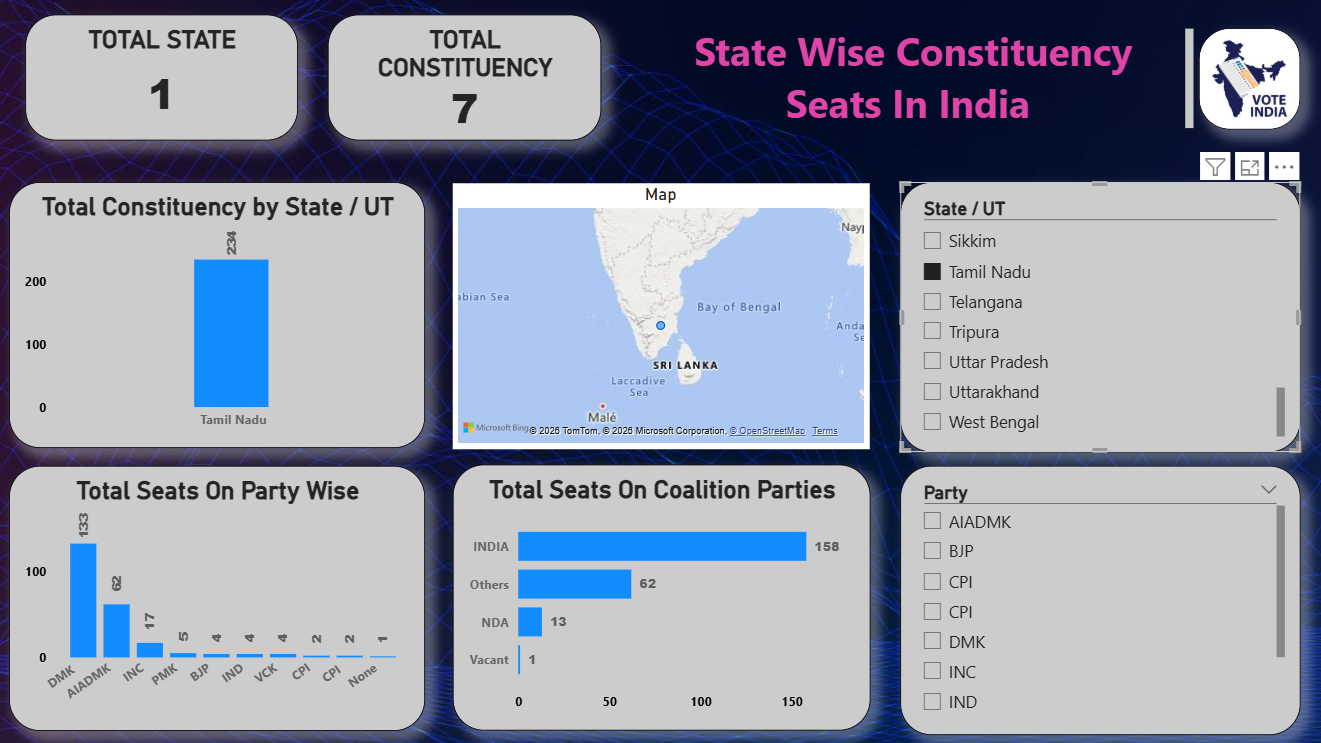

Layout of this report page (visuals, bound fields, positions):
{"tool":"powerbi","page":{"name":"Page 1","canvas":[1280,720],"ordinal":0},"visuals":[{"type":"card","title":"TOTAL STATE","fields":{"Values":["Count(Data.State / UT)"]},"box":[792.6,32.6,226.8,105],"z":0},{"type":"card","title":"TOTAL CONTITUENCY","fields":{"Values":["Count(Data.Total Constituency)"]},"box":[1042.4,32.6,228,103.8],"z":1000},{"type":"columnChart","title":"Total Constituency by State / UT","fields":{"Category":["Data.State / UT"],"Y":["Sum(Data.Total Constituency)"]},"box":[279.9,152.3,477.5,259.3],"z":2000},{"type":"map","fields":{"Category":["Data.State / UT"]},"box":[793.1,152.3,477.5,259.3],"z":3000},{"type":"columnChart","title":"TOTAL SEATS ON PARTY WISE","fields":{"Y":["Sum(Data.Total Constituency)"],"Category":["Data.Party"]},"box":[279.9,435,477.5,256.6],"z":4000},{"type":"clusteredBarChart","title":"TOTAL SEATS ON COALITION PARTIES","fields":{"Category":["Data.NDA / INDI"],"Y":["Sum(Data.Total Constituency)"]},"box":[793.1,435,477.5,256.6],"z":5000},{"type":"slicer","fields":{"Values":["Data.State / UT"]},"box":[34.3,152.3,223.7,259.3],"z":6000},{"type":"slicer","fields":{"Values":["Data.Party"]},"box":[35.7,432.2,223.7,259.3],"z":7000},{"type":"textbox","box":[237.4,13.7,544.8,138.6],"z":8000},{"type":"image","box":[33.8,13.3,167.7,124.3],"z":9000}]}

Visuals, with their boxes in screenshot pixels (x1, y1, x2, y2), scaled from the page's 1280x720 canvas onto the 1321x743 screenshot:
"TOTAL STATE" card: left=818, top=34, right=1052, bottom=142
"TOTAL CONTITUENCY" card: left=1076, top=34, right=1311, bottom=141
"Total Constituency by State / UT" columnChart: left=289, top=157, right=782, bottom=425
map - Data.State / UT: left=819, top=157, right=1311, bottom=425
"TOTAL SEATS ON PARTY WISE" columnChart: left=289, top=449, right=782, bottom=714
"TOTAL SEATS ON COALITION PARTIES" clusteredBarChart: left=819, top=449, right=1311, bottom=714
slicer - Data.State / UT: left=35, top=157, right=266, bottom=425
slicer - Data.Party: left=37, top=446, right=268, bottom=714
textbox: left=245, top=14, right=807, bottom=157
image: left=35, top=14, right=208, bottom=142
